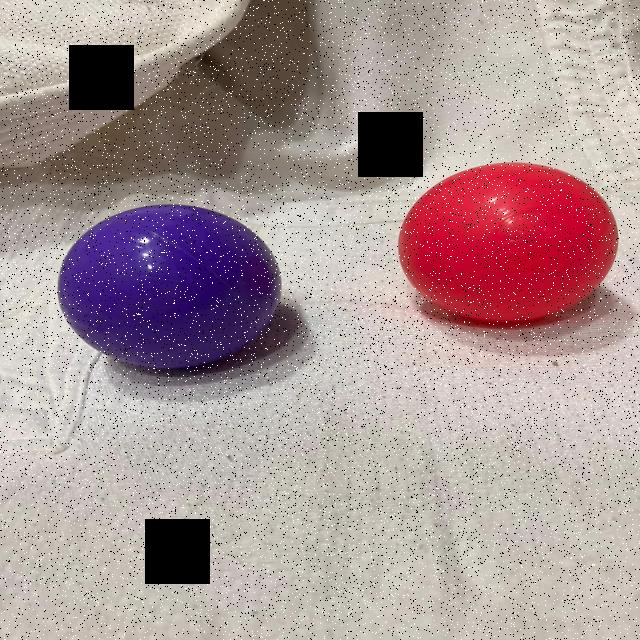ball: (52, 200, 285, 375), (396, 159, 624, 327)
